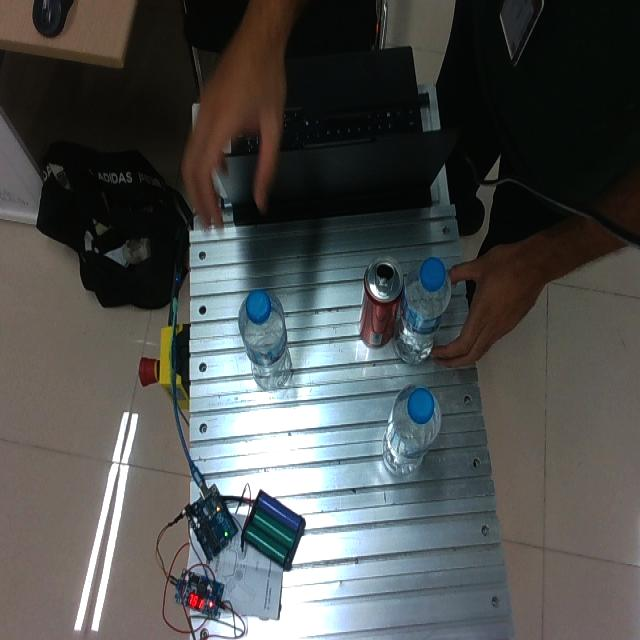coca: (358, 256, 404, 349)
lavie: (393, 259, 451, 364), (238, 290, 291, 390), (382, 385, 440, 476)
